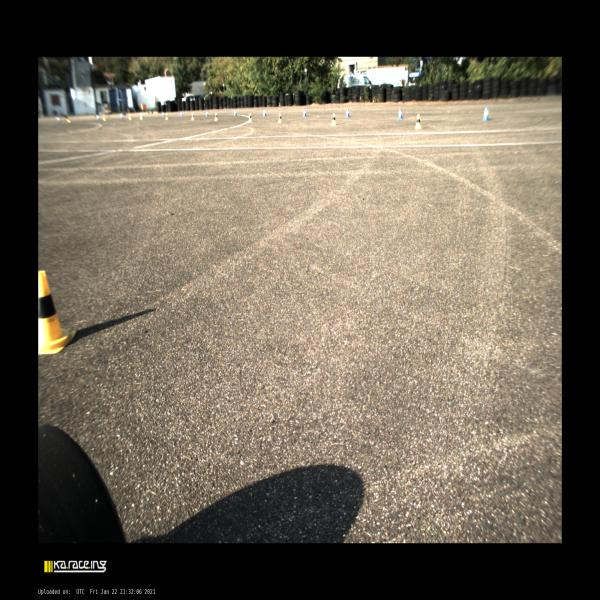blue_cone: (482, 107, 490, 121), (397, 108, 403, 120), (345, 108, 350, 117), (303, 109, 307, 116), (233, 109, 237, 116), (263, 109, 266, 116), (205, 110, 208, 116)
yellow_cone: (38, 270, 76, 354), (414, 114, 422, 130), (331, 113, 336, 125), (278, 113, 282, 123), (248, 113, 252, 122), (214, 113, 218, 121), (191, 113, 195, 121)
